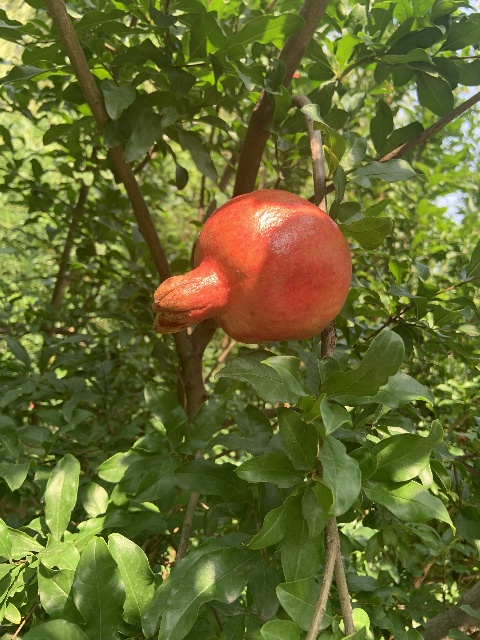ripe: (151, 189, 351, 344)
